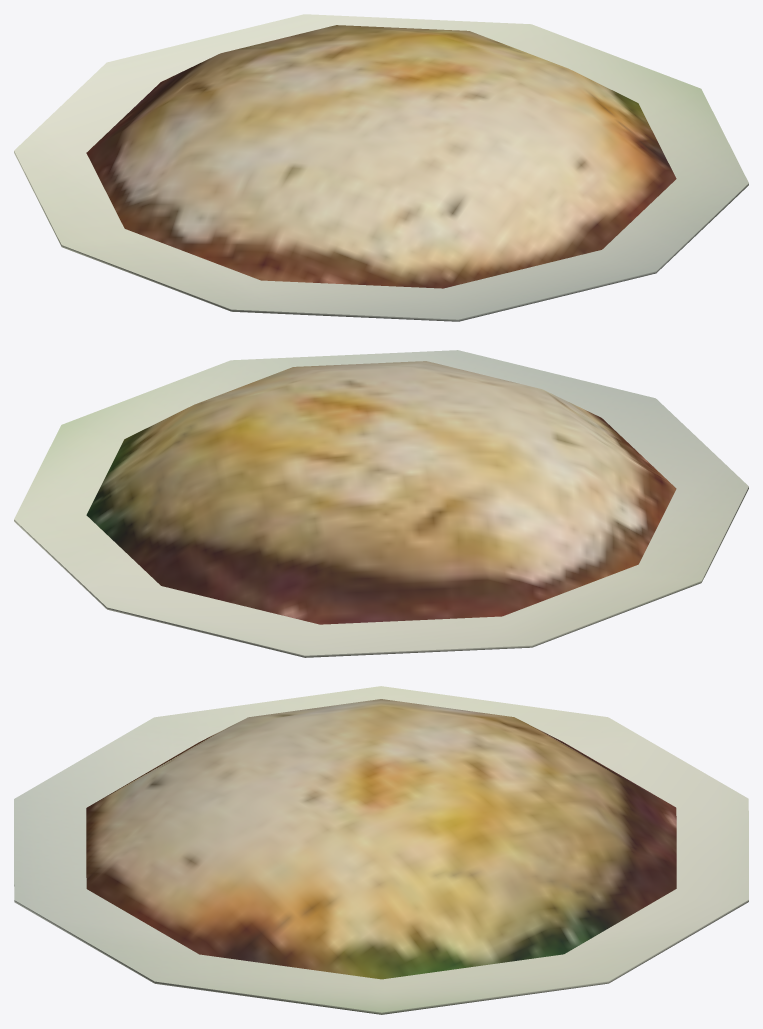
Rendered from prop_foodmenu07.fbx.
3 views of the same model, one above another, from view 1: azimuth 30°, elevation 25°; view 2: azimuth 150°, elevation 25°; view 3: azimuth 270°, elevation 25° (orthographic). The views are drawn at different scales.
Parts seen in each view (by area): view 1: prop_foodmenu07; view 2: prop_foodmenu07; view 3: prop_foodmenu07.
Part boxes in pixels (box(x1,y1,x2,y2)): prop_foodmenu07: box(14, 14, 748, 321); prop_foodmenu07: box(14, 350, 748, 657); prop_foodmenu07: box(14, 686, 748, 1014).
Size of the model in its own units: 0.1649 by 0.0283 by 0.1569.
